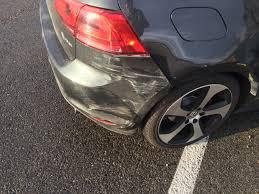rear-bumper-dent: (51, 35, 187, 126)
